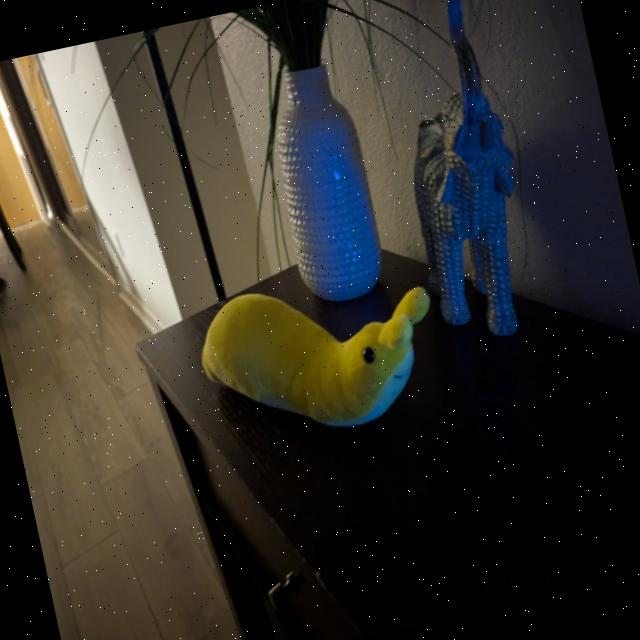banana-slug-toy: (180, 247, 470, 466)
